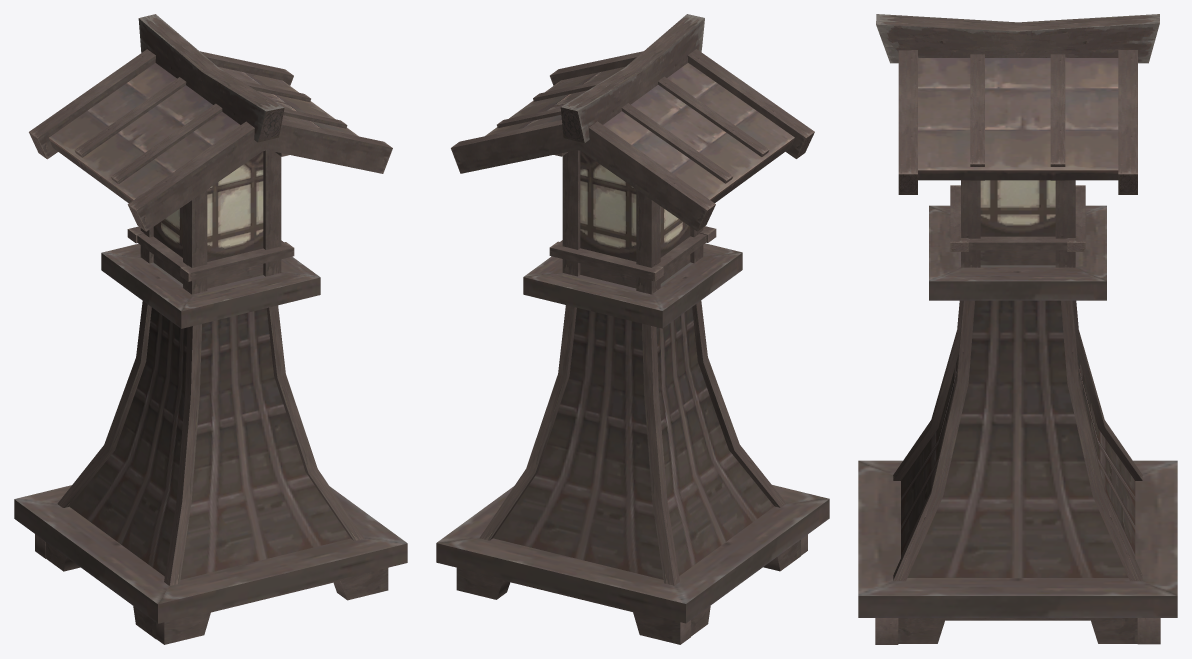
File: Homeworld_Exterior_Dq_Lamp_Woodenlamp_10_Lod0.fbx
The picture shows the model from 3 angles, left to right: view 1: azimuth 30°, elevation 25°; view 2: azimuth 150°, elevation 25°; view 3: azimuth 270°, elevation 25°; orthographic projection. The views are drawn at different scales.
Parts seen in each view (by area): view 1: Area_Dq_Light_MS_Woodenlamp_03_Lod0; view 2: Area_Dq_Light_MS_Woodenlamp_03_Lod0; view 3: Area_Dq_Light_MS_Woodenlamp_03_Lod0.
Part boxes in pixels (left/top/right/bottom): Area_Dq_Light_MS_Woodenlamp_03_Lod0: left=14, top=14, right=407, bottom=644; Area_Dq_Light_MS_Woodenlamp_03_Lod0: left=436, top=14, right=829, bottom=644; Area_Dq_Light_MS_Woodenlamp_03_Lod0: left=858, top=14, right=1177, bottom=644.
Bounding box in the file's own units: 1.06 × 2 × 1.03.
